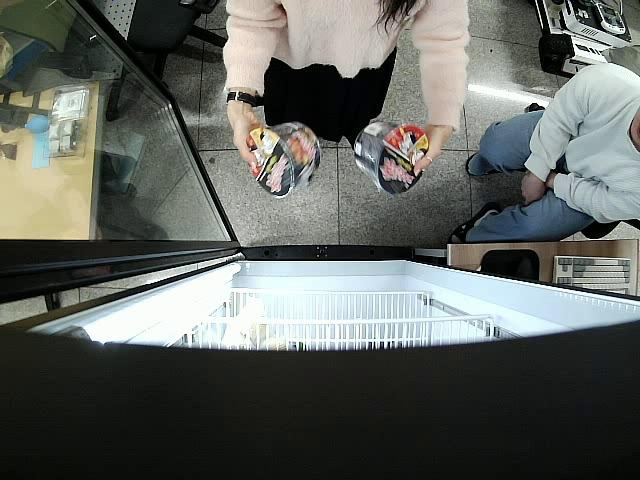00_hand: (225, 103, 265, 178), (412, 120, 453, 177)
07_buldak_L: (250, 121, 325, 199), (355, 119, 427, 198)
